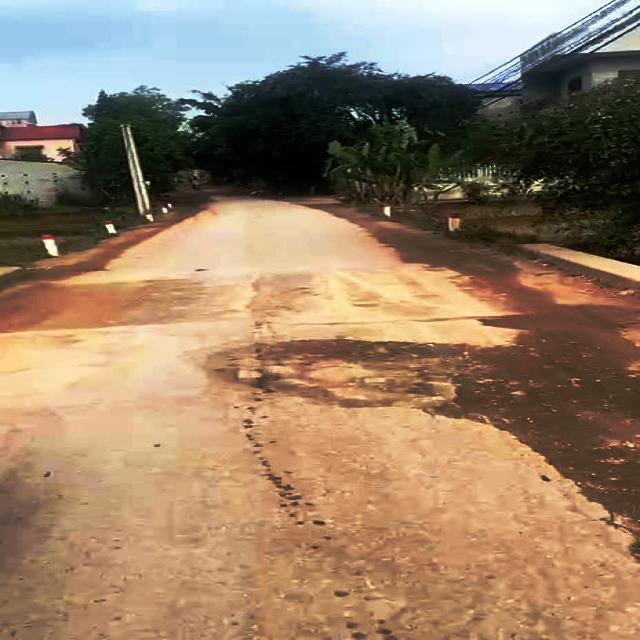pothole: (193, 334, 527, 417)
